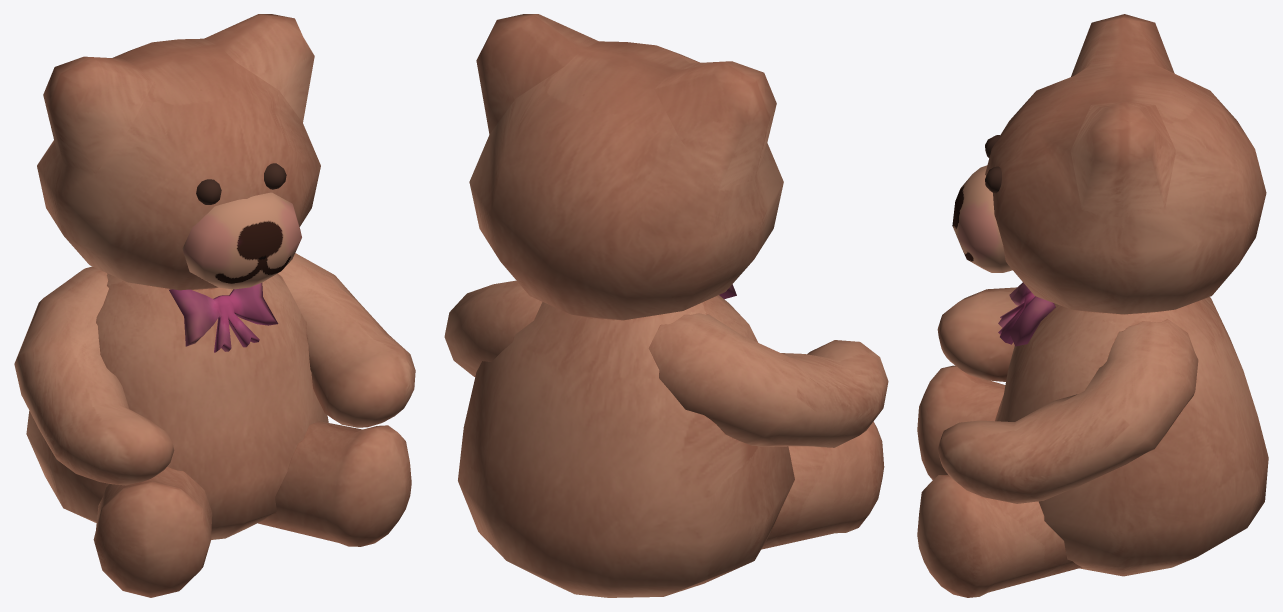
File: TeddyBear.fbx
3 views of the same model, side by side, from view 1: azimuth 30°, elevation 25°; view 2: azimuth 150°, elevation 25°; view 3: azimuth 270°, elevation 25° (orthographic). The views are drawn at different scales.
Parts seen in each view (by area): view 1: TeddyBear; view 2: TeddyBear; view 3: TeddyBear.
Boxes of the visible parts, x1,y1,x2,y2 form: TeddyBear: (14,14,415,597); TeddyBear: (444,14,888,597); TeddyBear: (917,14,1268,597).
Bounding box in the file's own units: 90.7 × 119 × 77.96.
